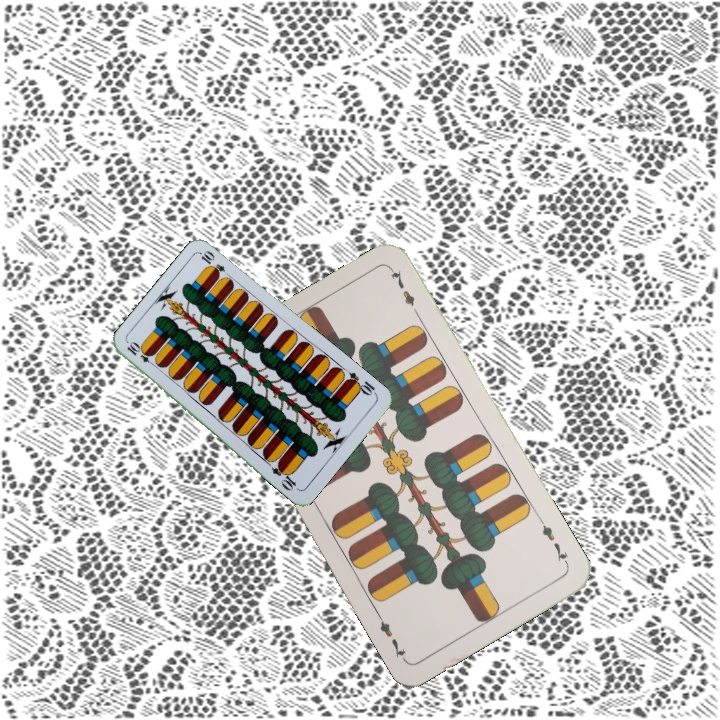E10: (342, 368, 379, 399), (123, 339, 159, 369)
E7: (535, 514, 572, 568)
